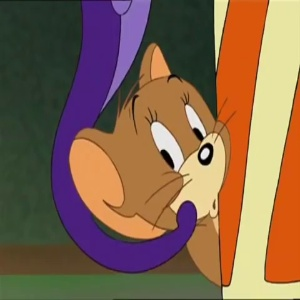Jerry: (69, 42, 232, 224)
